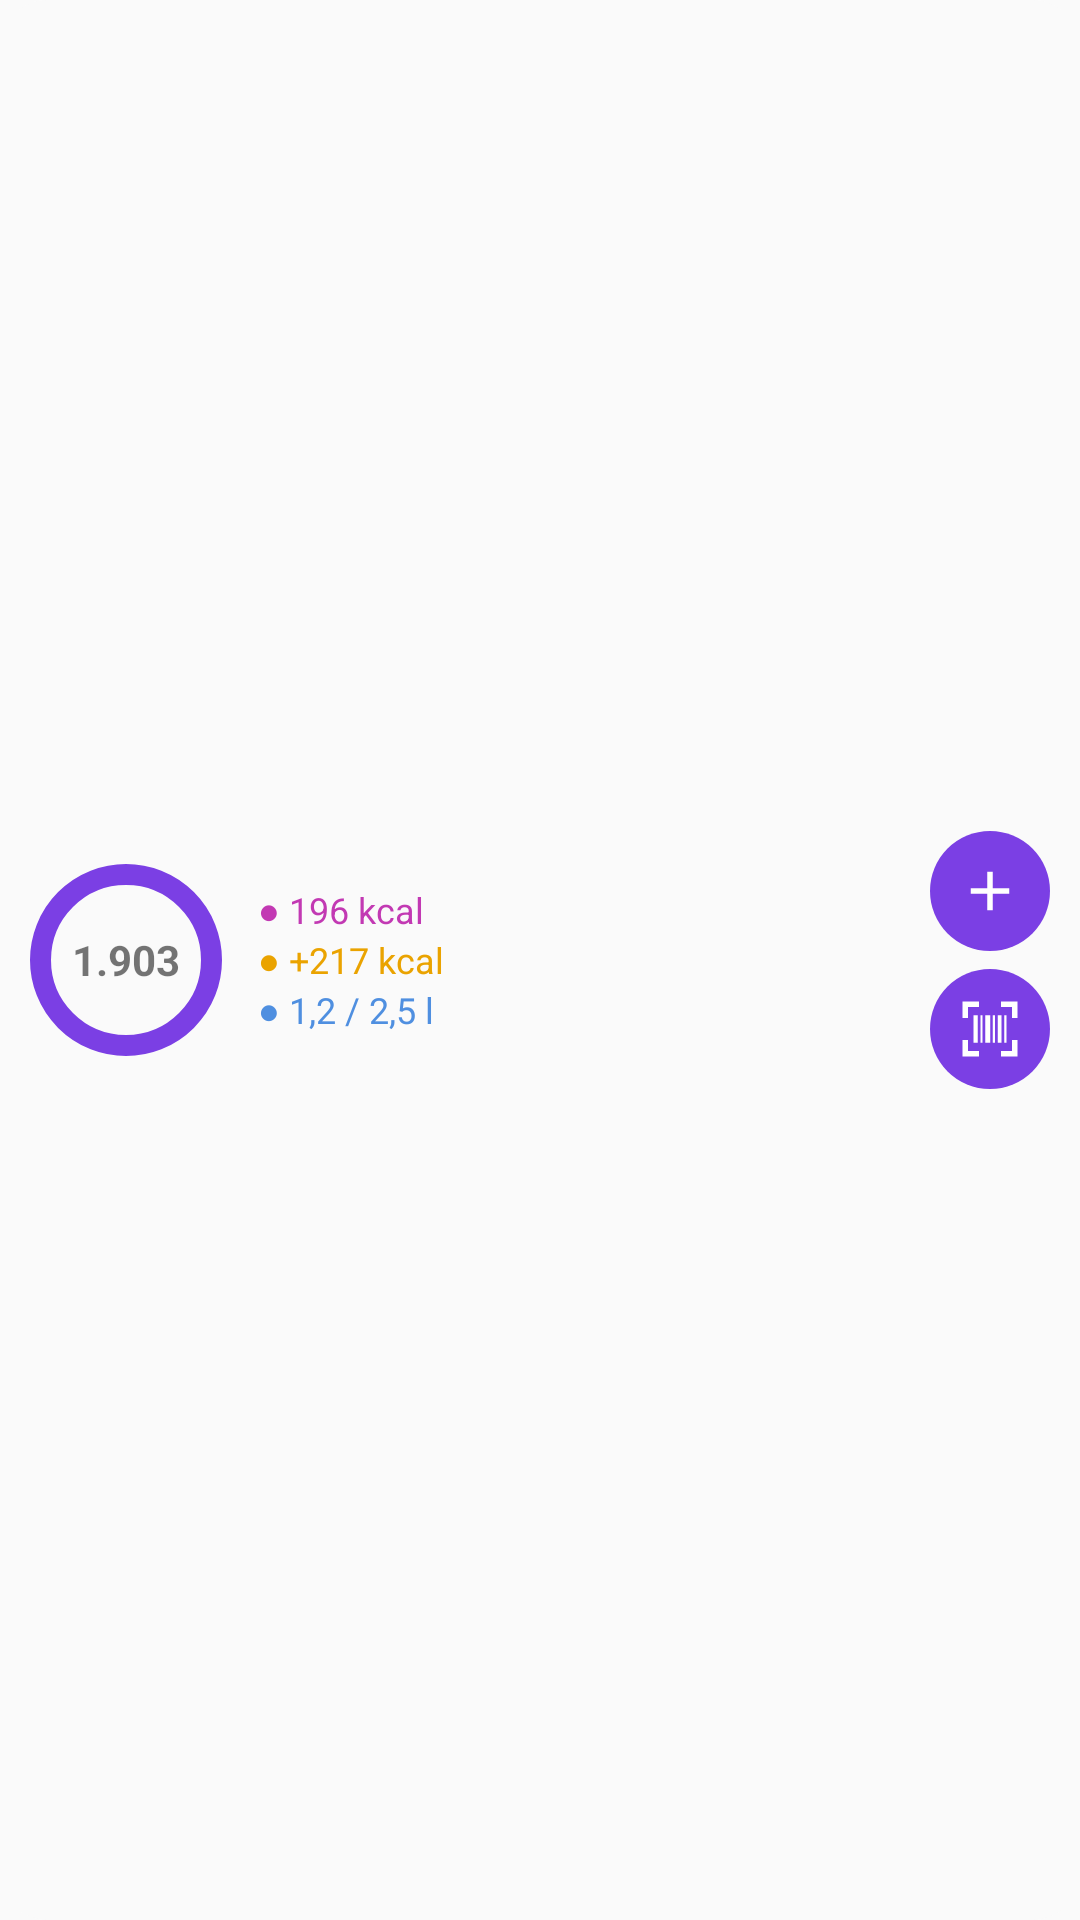

Screen size 1080px x 1920px. Icon name, then its box in pixels as (x1, y1, x2, y2):
add: (930, 831, 1050, 951)
barcode: (930, 969, 1050, 1089)
